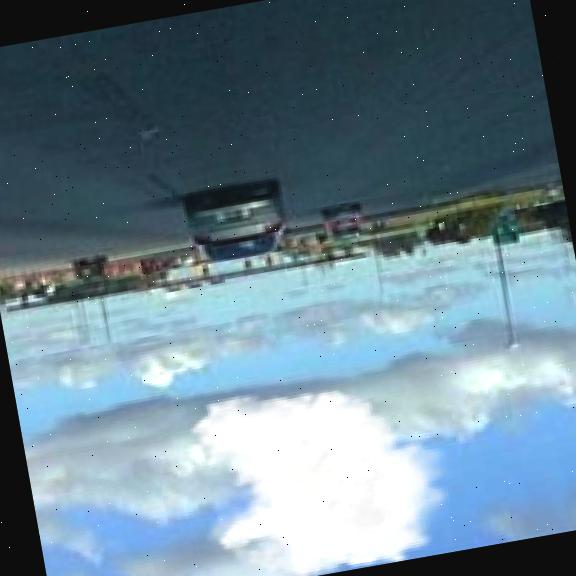smoke: (176, 360, 432, 559)
